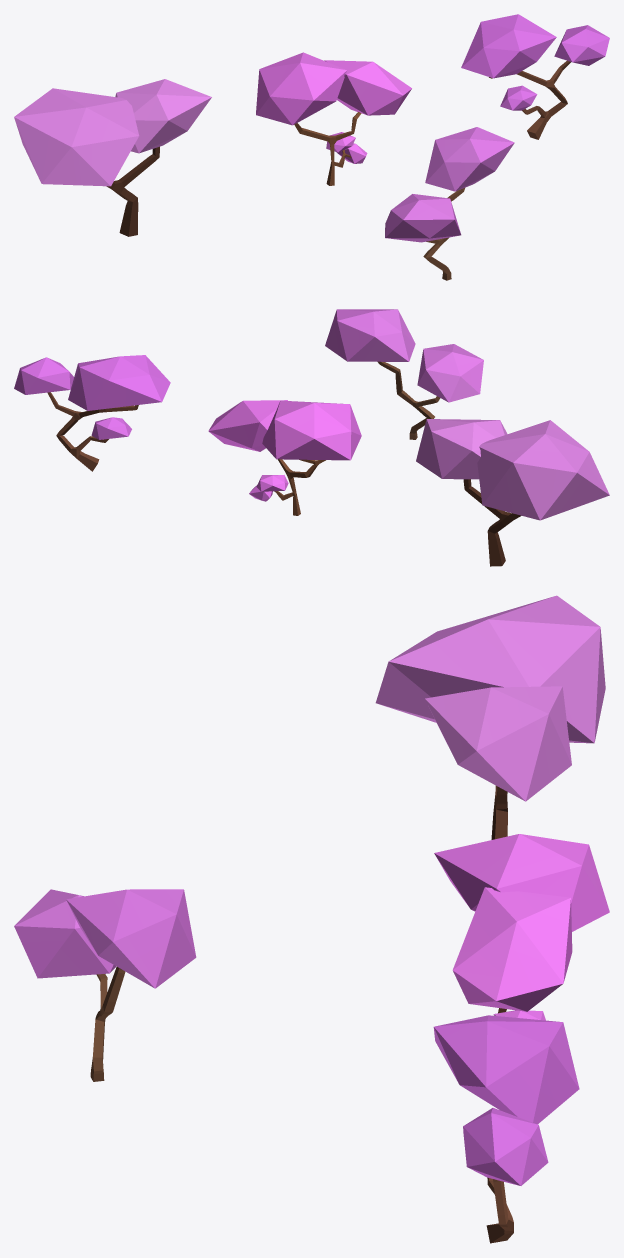
File: Japanese_Tree.glb
The picture shows the model from 3 angles, top to bottom: view 1: azimuth 30°, elevation 25°; view 2: azimuth 150°, elevation 25°; view 3: azimuth 270°, elevation 25°; orthographic projection. The views are drawn at different scales.
Visible parts, largest first — view 1: Icosphere.004, Icosphere.002, Icosphere.006, Icosphere.001, Cube.002, Cube.001, Cube, Cube.003; view 2: Icosphere.004, Icosphere.002, Icosphere.006, Icosphere.001, Cube.001, Cube.002, Cube.003, Cube; view 3: Icosphere.004, Icosphere.002, Icosphere.001, Icosphere.006, Cube.003, Cube.001.
Boxes of the visible parts, x1,y1,x2,y2 form: Icosphere.004: (14,79,211,186); Icosphere.002: (256,52,411,163); Icosphere.006: (385,127,514,242); Icosphere.001: (461,14,609,110); Cube.002: (106,146,159,236); Cube.001: (489,60,570,139); Cube: (294,112,361,185); Cube.003: (423,188,464,280); Icosphere.004: (416,419,609,520); Icosphere.002: (208,400,361,501); Icosphere.006: (325,309,483,402); Icosphere.001: (14,355,170,439); Cube.001: (47,392,138,471); Cube.002: (463,479,521,566); Cube.003: (377,361,440,439); Cube: (274,459,325,515); Icosphere.004: (375,595,605,801); Icosphere.002: (434,834,609,1020); Icosphere.001: (433,1015,579,1185); Icosphere.006: (14,889,196,988); Cube.003: (90,967,125,1081); Cube.001: (486,1177,513,1243).
Bounding box in the file's own units: 14.37 × 3.51 × 7.46.
2 materials, 2 textured.
